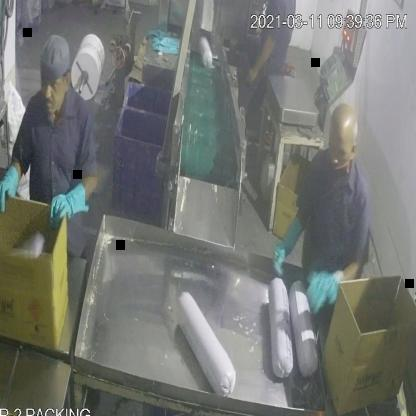glove: (303, 254, 348, 325), (36, 178, 92, 232), (262, 216, 310, 276), (0, 158, 25, 218)
no_glove: (240, 32, 279, 82)
